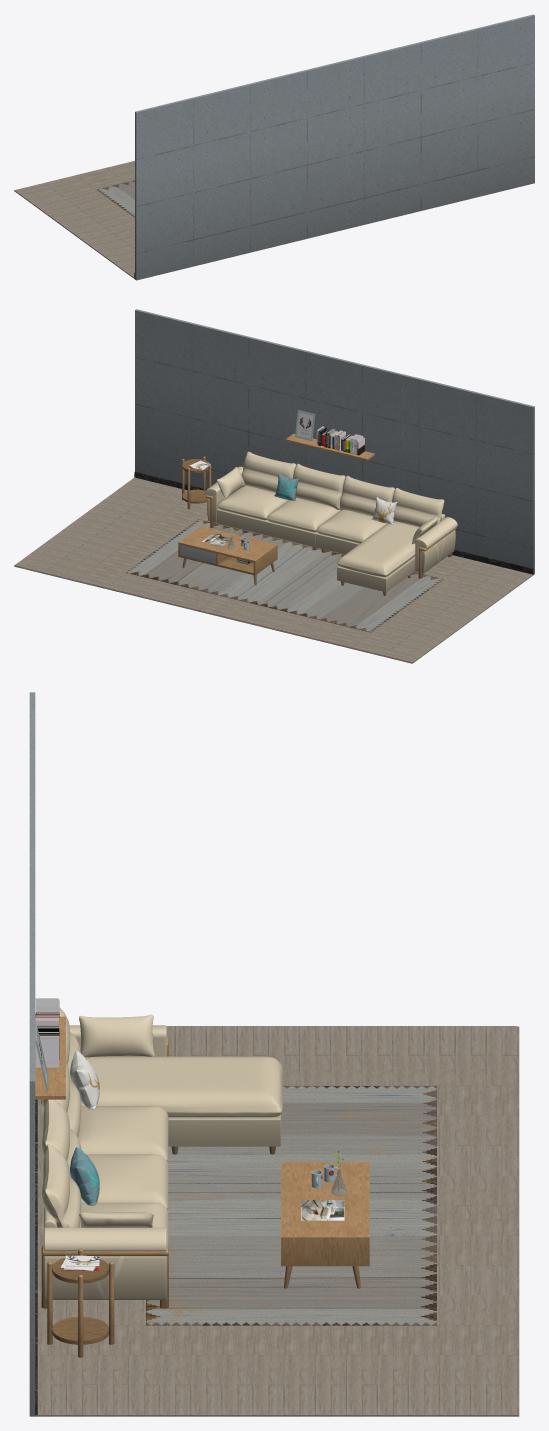
The model's file is sofa_combination.glb.
3 views of the same model, one above another, from view 1: azimuth 30°, elevation 25°; view 2: azimuth 150°, elevation 25°; view 3: azimuth 270°, elevation 25° (orthographic). The views are drawn at different scales.
Visible parts, largest first — view 1: sofa_6; view 2: sofa_6, sofa_4, sofa_2, sofa_10; view 3: sofa_6, sofa_4, sofa_2, sofa_10.
Boxes of the visible parts, x1=… form: sofa_6: x1=14, y1=14, x2=534, y2=280; sofa_6: x1=14, y1=309, x2=534, y2=663; sofa_4: x1=189, y1=451, x2=444, y2=577; sofa_2: x1=134, y1=433, x2=533, y2=595; sofa_10: x1=239, y1=426, x2=364, y2=550; sofa_6: x1=29, y1=692, x2=519, y2=1416; sofa_4: x1=41, y1=1008, x2=344, y2=1271; sofa_2: x1=35, y1=1015, x2=369, y2=1414; sofa_10: x1=35, y1=998, x2=339, y2=1188.
Size of the model in its own units: 622 by 250 by 331.
5 materials, 5 textured.
